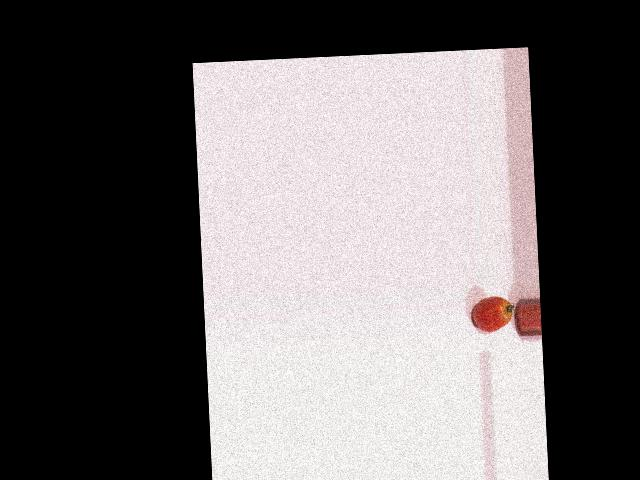tomato: (472, 296, 513, 333)
